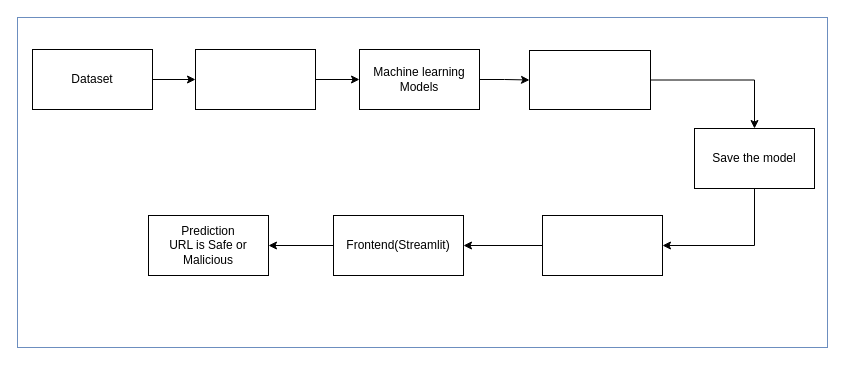
Image size: 845x365. Some labels were removed from this diagram. The shapes that lost their labels are listed below. From the top down, each one's centre as x and y in pixels, then its label:
(255,79): Preprocessing
(589,80): Acccuracy
(602,245): Backend(FastAPI)
